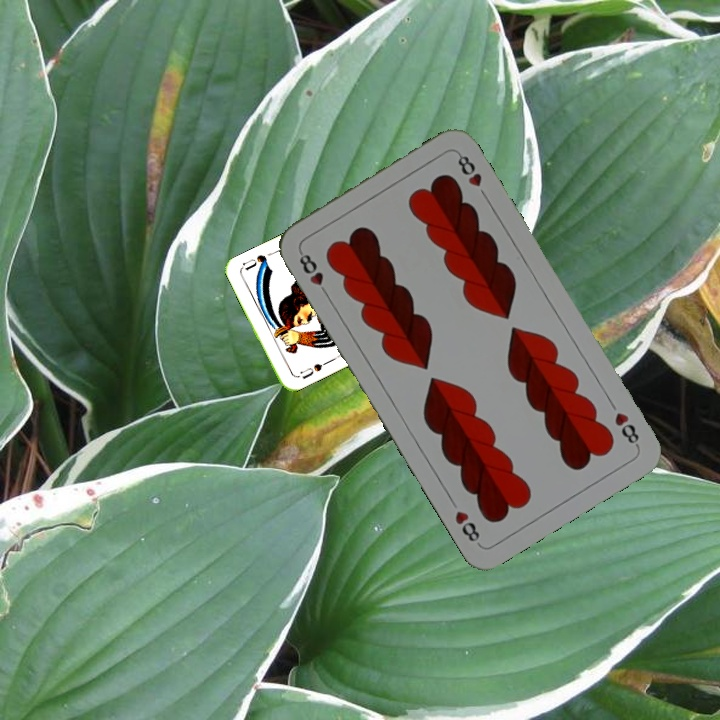H8: (295, 247, 332, 300), (610, 408, 642, 450)
SU: (291, 358, 330, 382)
